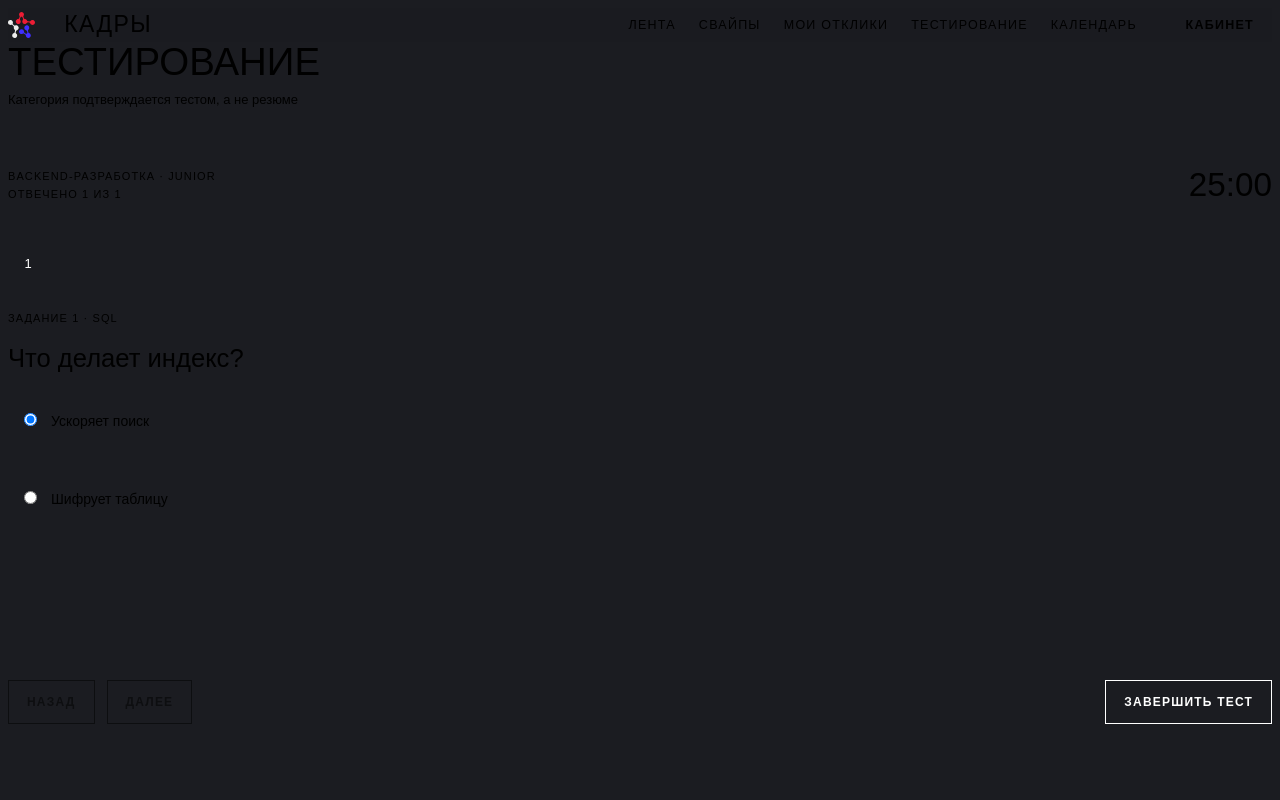
Test: result of a finished attempt › does not recommend anything after an ordinary pass
Click the button "Завершить тест".
click(1189, 702)  # box [1105,680,1272,724]
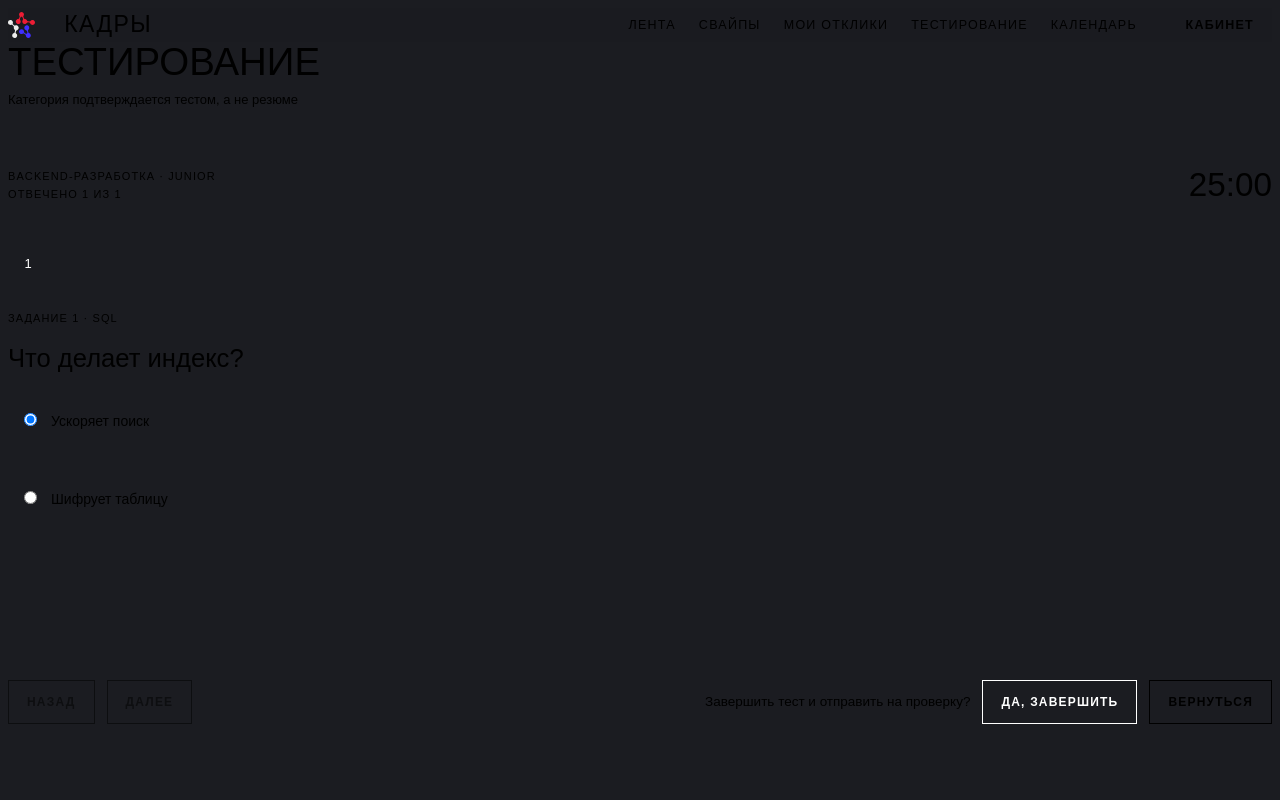
Click the button "Да, завершить".
click(1060, 702)  # box [982,680,1138,724]
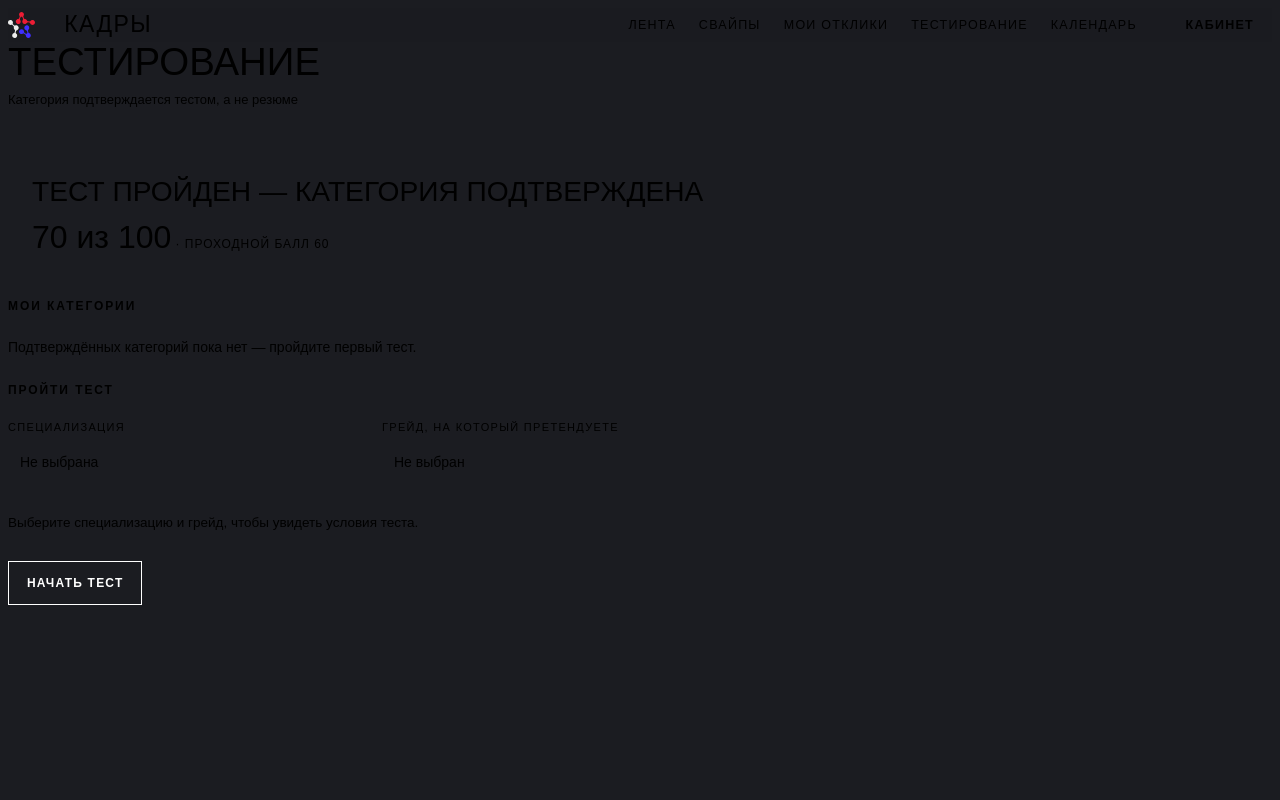
Expected: the text "Тест пройден — категория подтверждена" is shown, [32,176,703,208]
